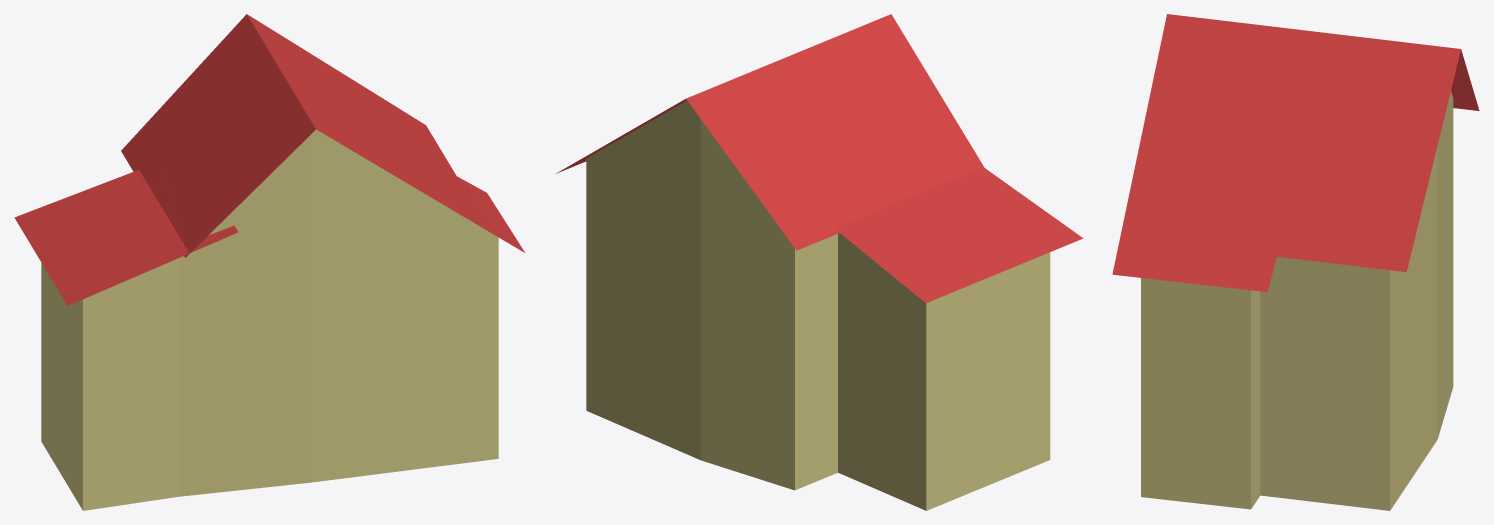
The picture shows the model from 3 angles, left to right: view 1: azimuth 30°, elevation 25°; view 2: azimuth 150°, elevation 25°; view 3: azimuth 270°, elevation 25°; orthographic projection. The views are drawn at different scales.
Parts seen in each view (by area): view 1: group_5, group_3, group_9, group_7, group_4, group_8; view 2: group_5, group_9, group_3, group_7, group_8, group_4; view 3: group_5, group_3, group_4.
Boxes of the visible parts, x1,y1,x2,y2 form: group_5: (180, 129, 498, 496); group_3: (122, 14, 524, 257); group_9: (41, 257, 179, 510); group_7: (15, 179, 238, 305); group_4: (121, 18, 523, 251); group_8: (14, 170, 233, 302); group_5: (586, 100, 853, 490); group_9: (853, 244, 1050, 510); group_3: (556, 14, 984, 250); group_7: (851, 167, 1083, 302); group_8: (834, 168, 1080, 302); group_4: (561, 100, 849, 250); group_5: (1141, 91, 1453, 510); group_3: (1112, 14, 1479, 292); group_4: (1113, 14, 1478, 291).
Size of the model in its own units: 17.22 by 11.5 by 13.57.
